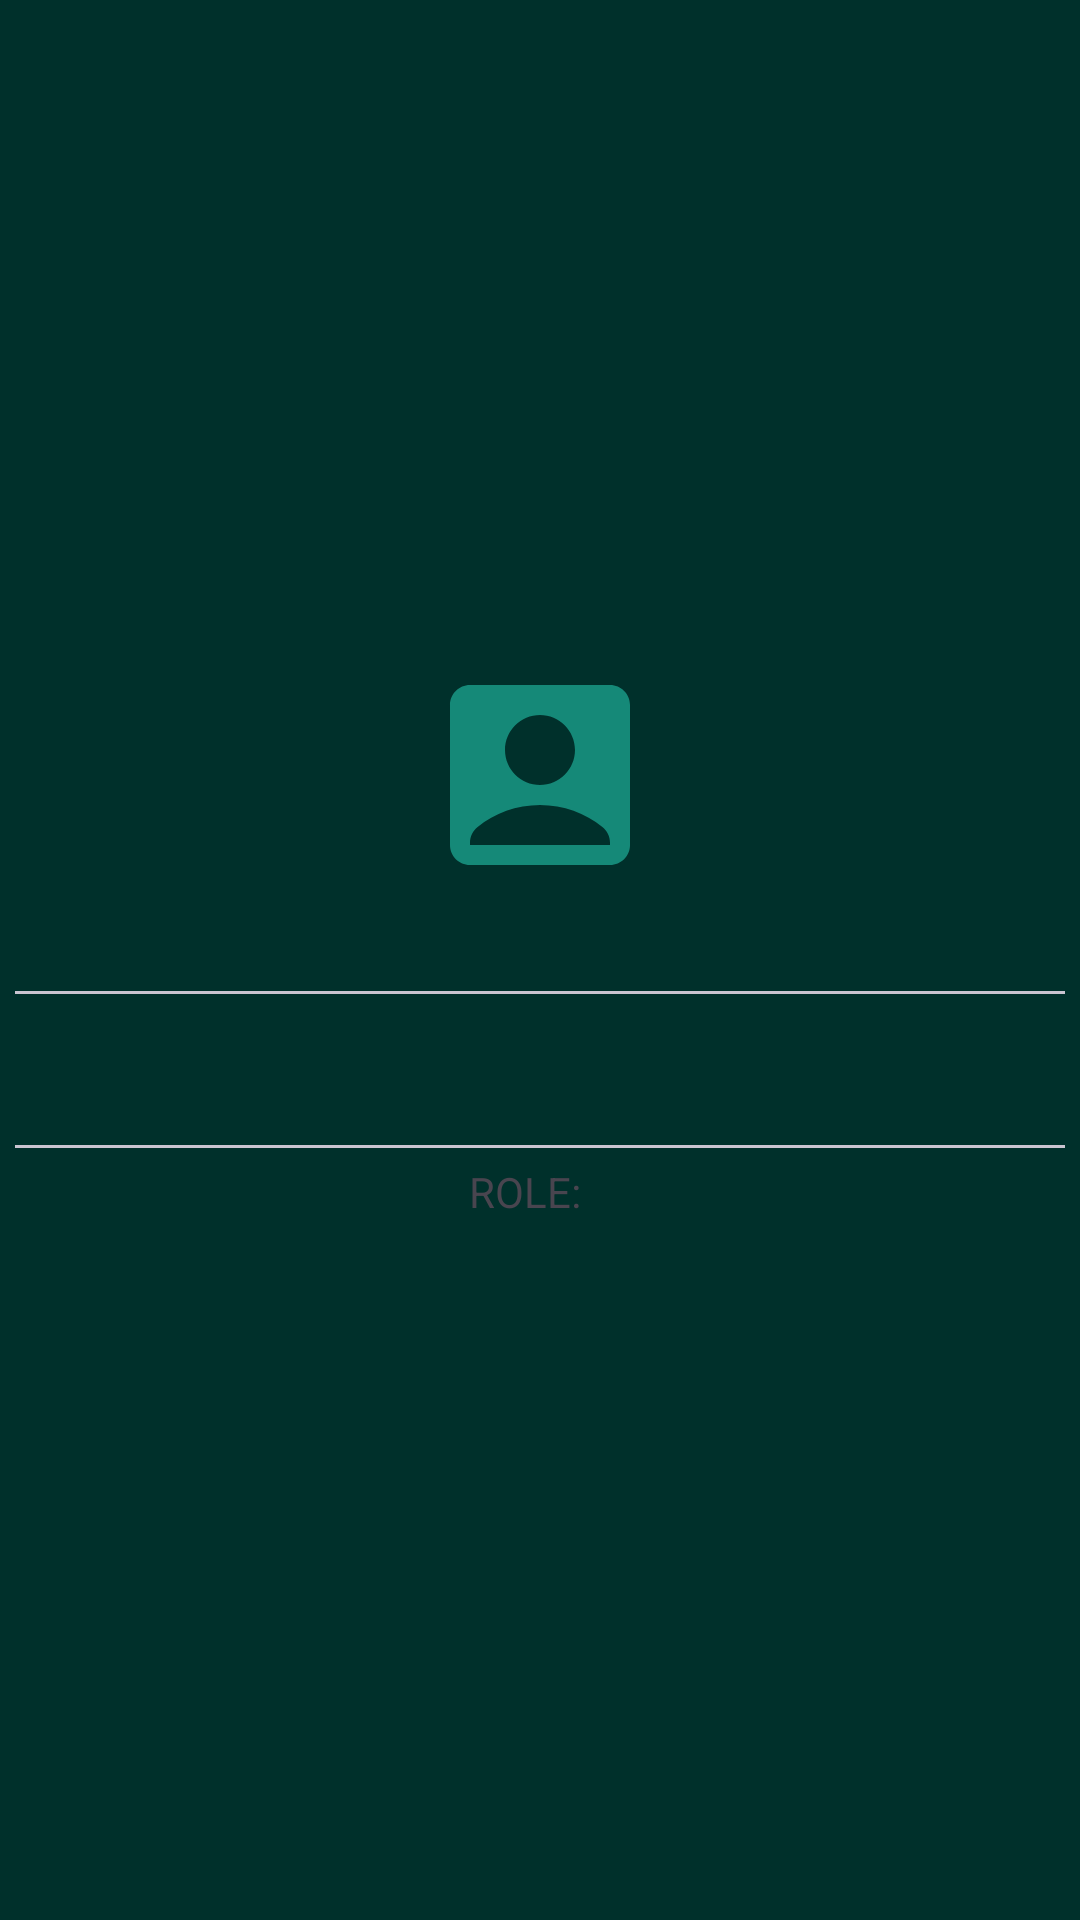

Screen size 1080*1920. Icon name, then its center in pixels as (x,y):
account box: (540,775)
